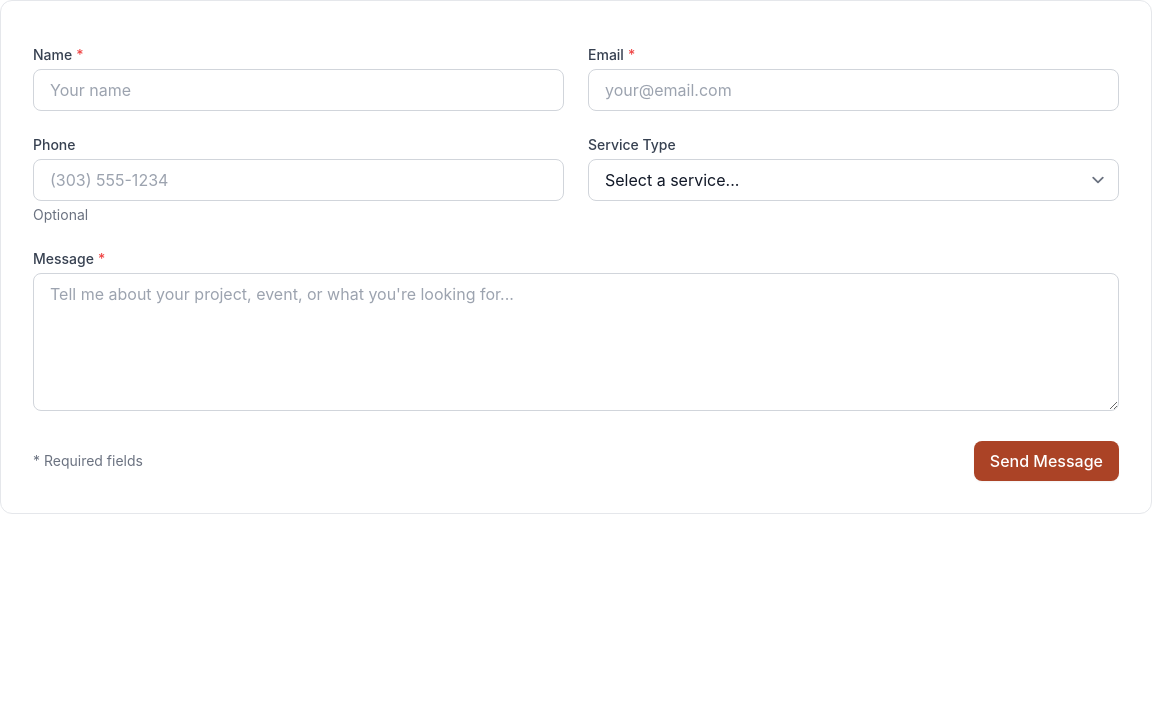
Test: ContactForm › validation messages › shows error for short message
In the field labelled "Name*": {"x": 298, "y": 90} [33,69,564,111], type "John Doe"
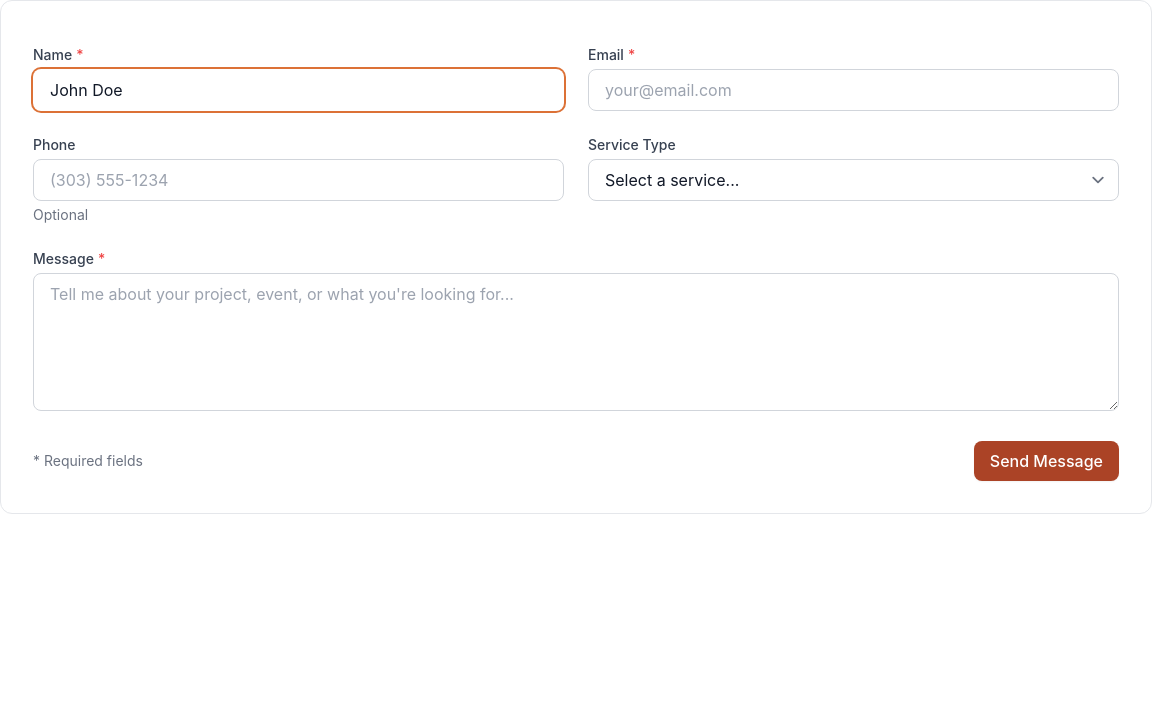
In the field labelled "Email*": {"x": 854, "y": 90} [588,69,1119,111], type "test@example.com"
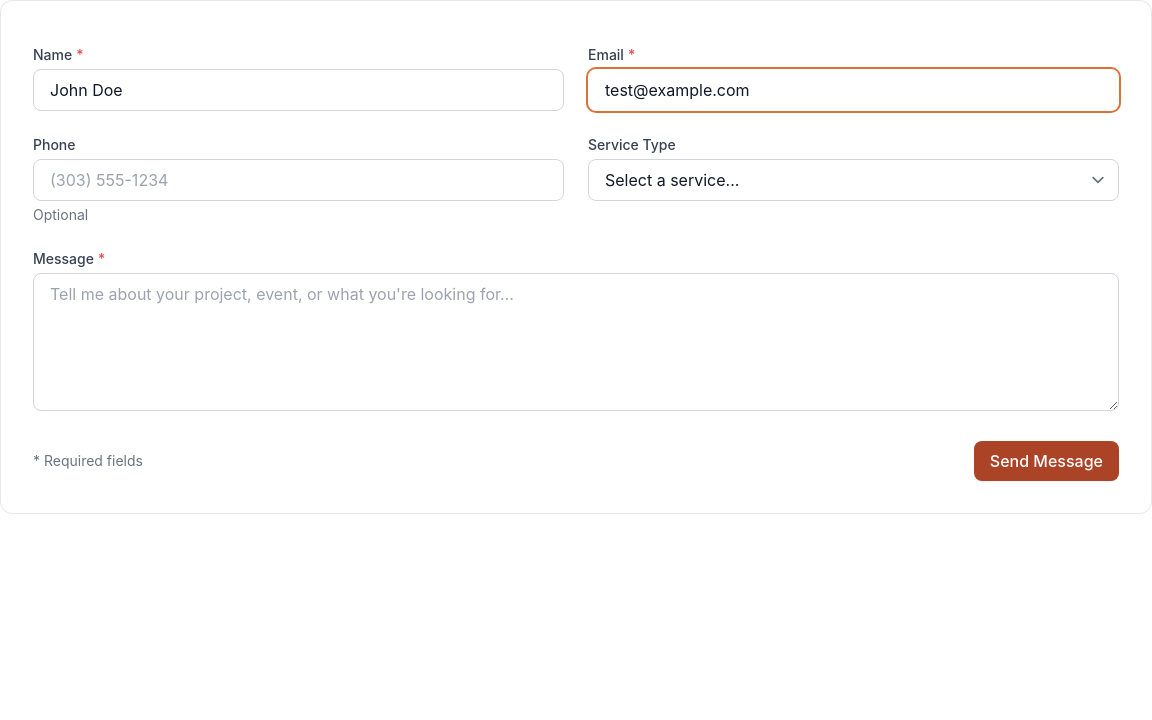
In the text box labelled "Message*": {"x": 576, "y": 342} [33,273,1119,411], type "Short"
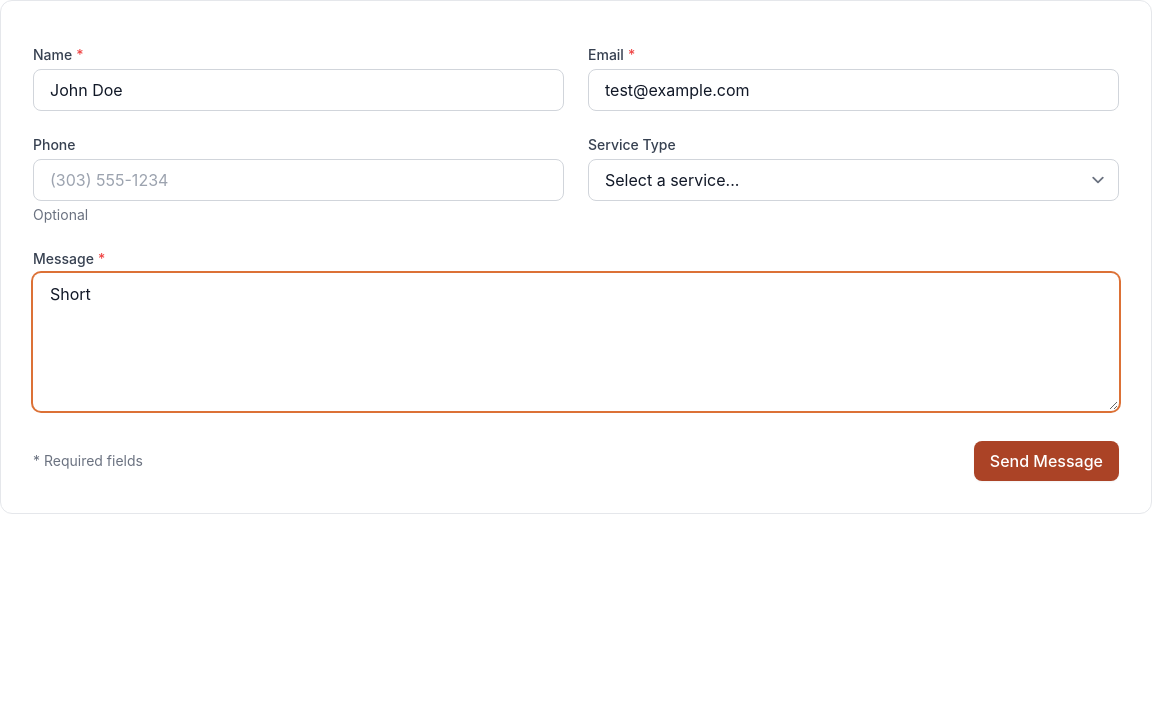
Click the button "Send Message": {"x": 1046, "y": 461} [974,441,1119,481]
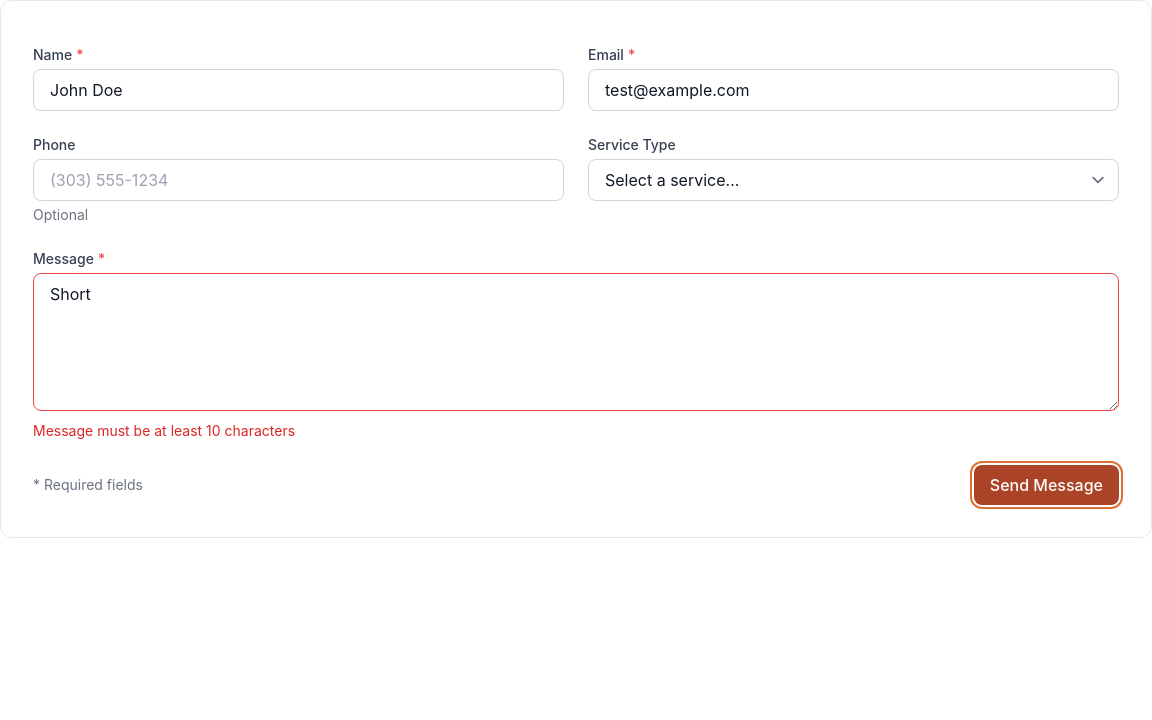
Expected: the text "Message must be at least 10 characters" is shown, [33,422,295,439]
